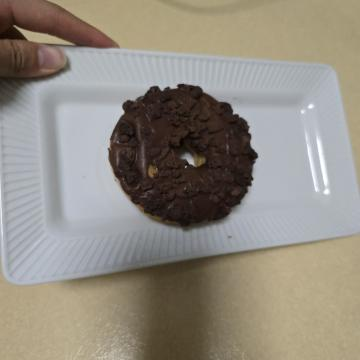doughnut: (78, 92, 244, 265)
